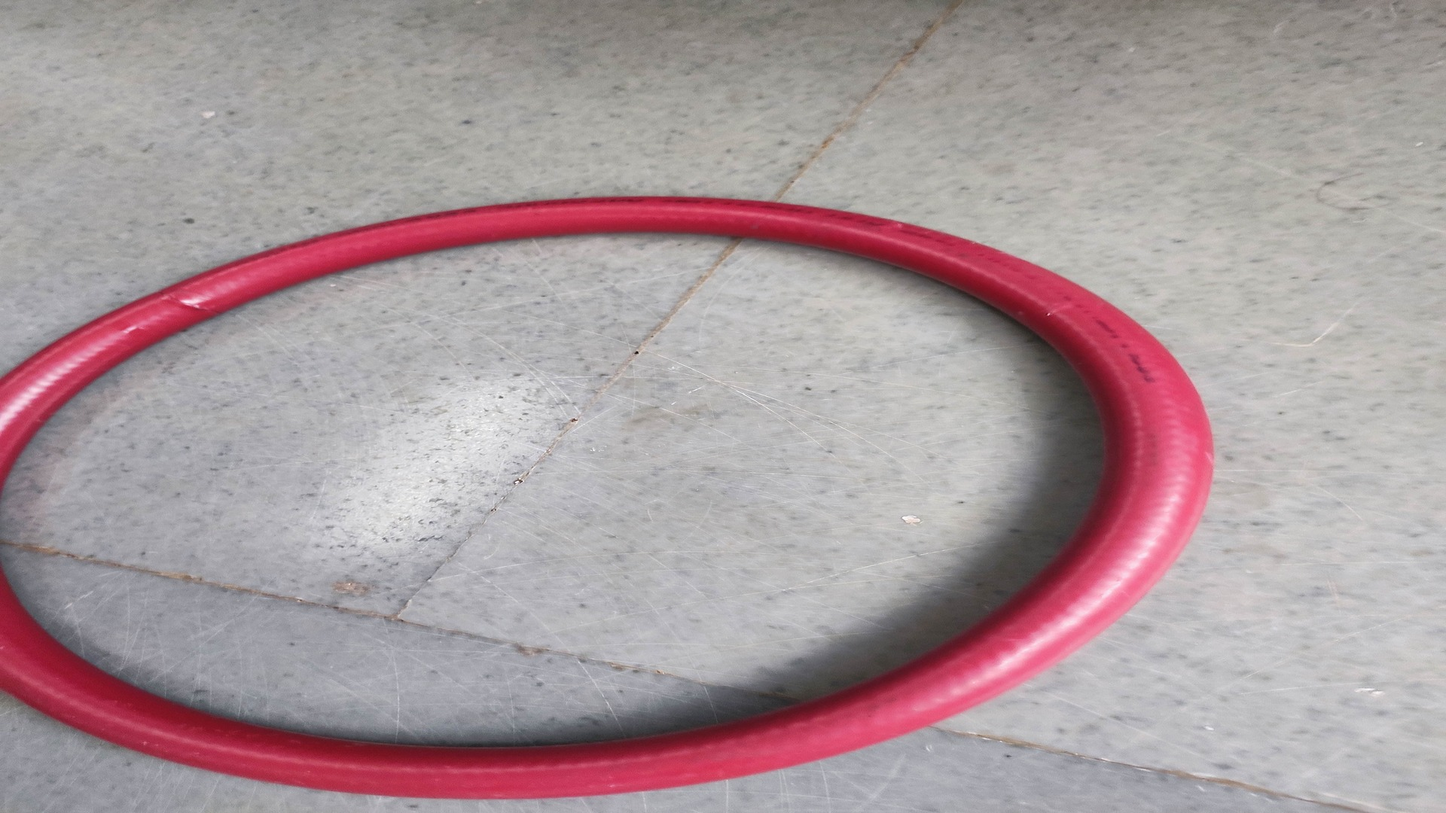Red ring: (5, 196, 1219, 789)
